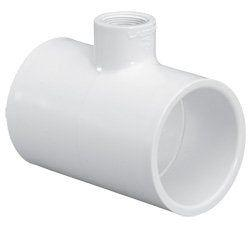PVC: (6, 11, 245, 216)
